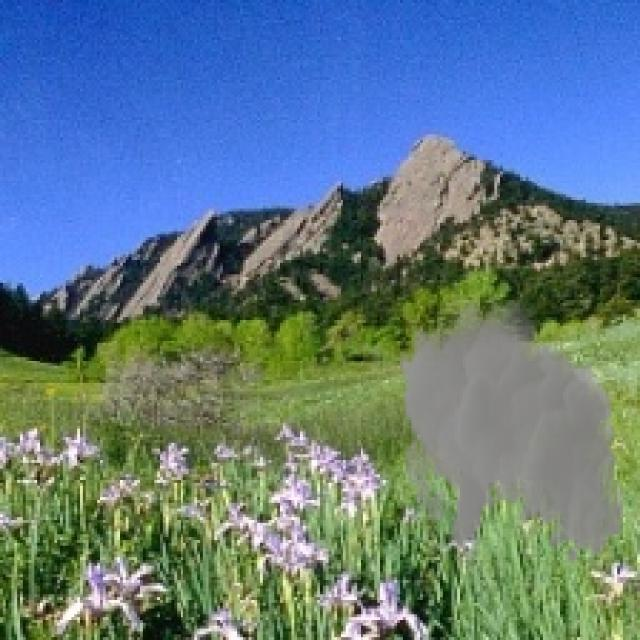smoke: (397, 288, 626, 566)
